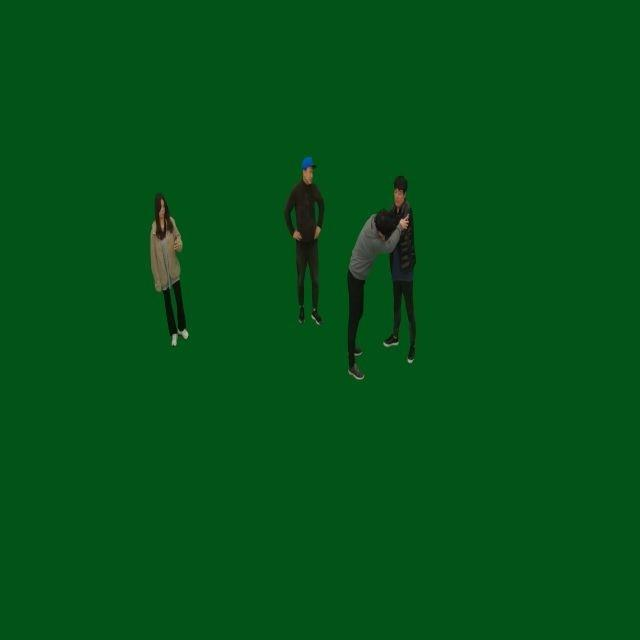fight: (342, 174, 419, 382)
non-fight: (286, 155, 327, 326), (148, 193, 189, 348)
